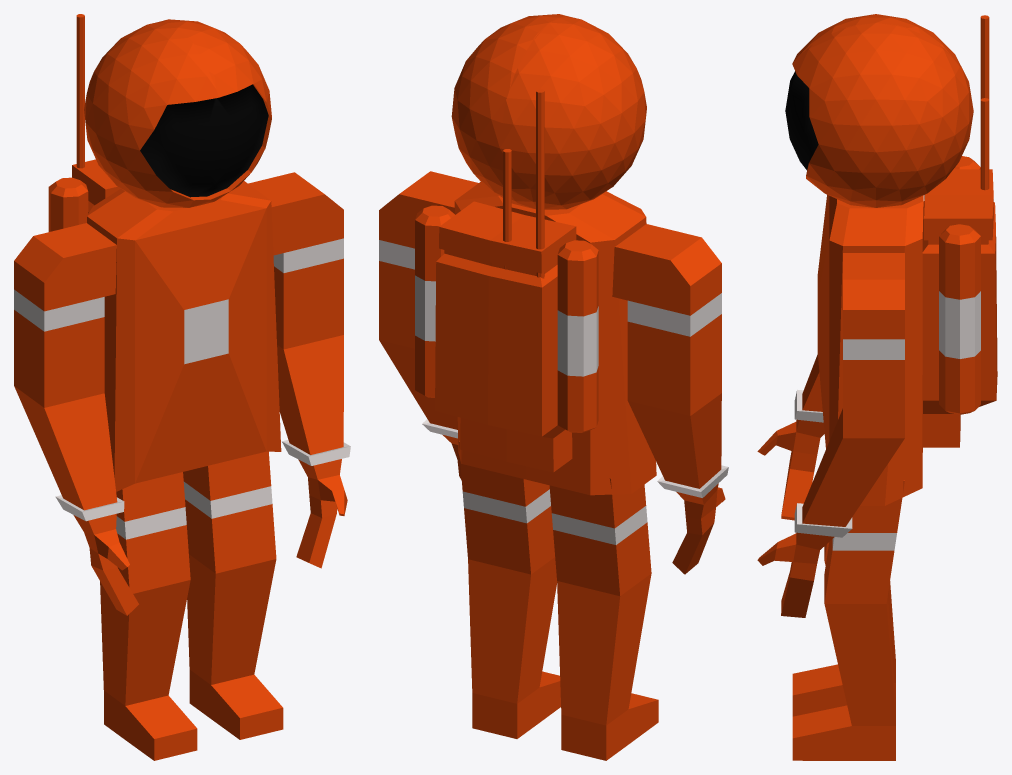
File: Astronaut_Orange.fbx
The picture shows the model from 3 angles, left to right: view 1: azimuth 30°, elevation 25°; view 2: azimuth 150°, elevation 25°; view 3: azimuth 270°, elevation 25°; orthographic projection. The views are drawn at different scales.
Visible parts, largest first — view 1: Cube, Icosphere; view 2: Cube, Icosphere; view 3: Cube, Icosphere.
Boxes of the visible parts, box(x1,y1,x2,y2) form: Cube: box(14, 14, 350, 760); Icosphere: box(84, 19, 271, 207); Cube: box(379, 89, 728, 760); Icosphere: box(451, 14, 646, 209); Cube: box(757, 15, 997, 760); Icosphere: box(785, 14, 973, 207).
Bounding box in the file's own units: 303 × 665 × 205.
